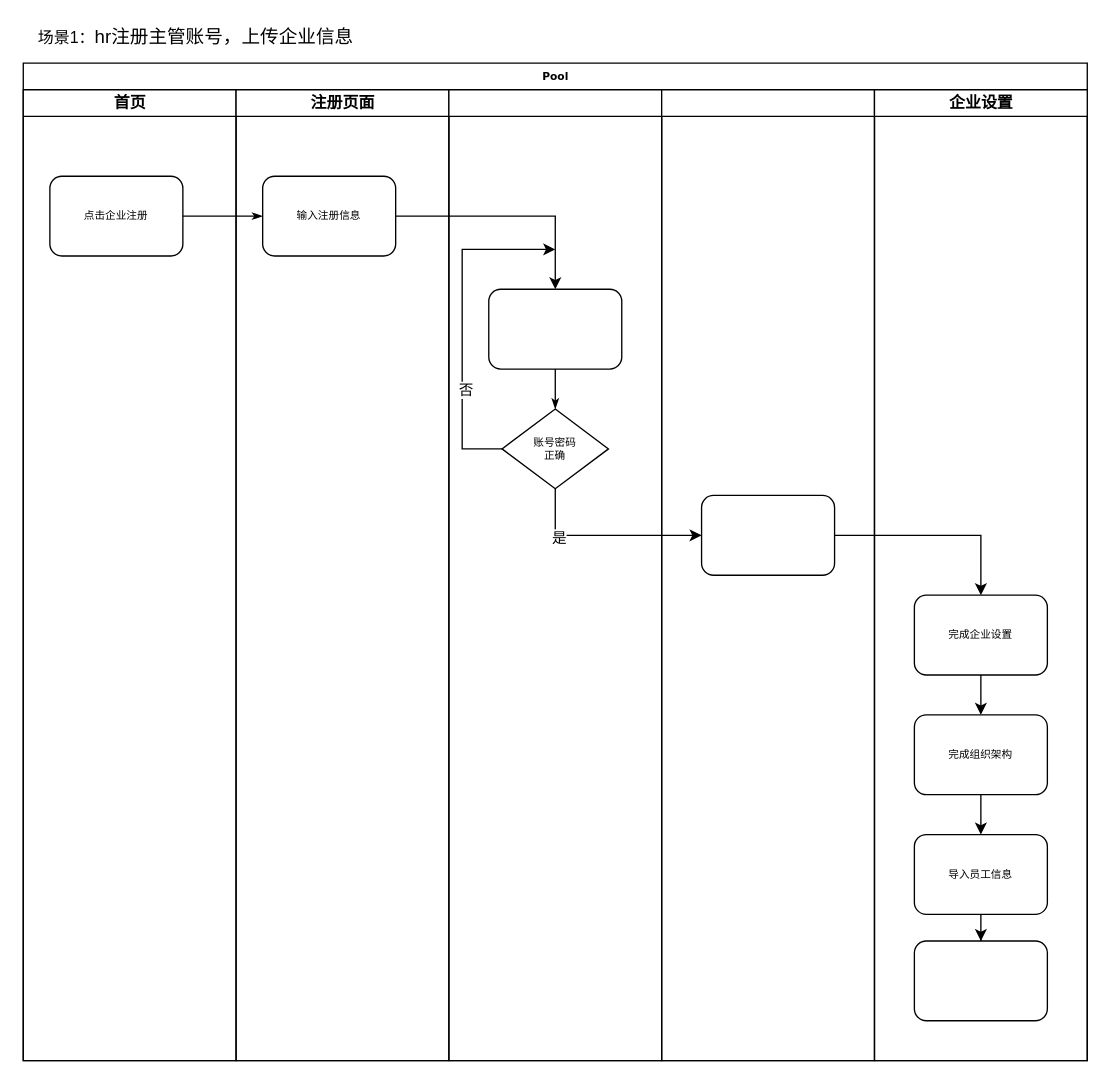
This 1111x1084 diagram has some shape labels left out. The box of each missing label's shape, as (x1, y1, x2, y2) in pixels:
员工账号权限分配: (913, 940, 1047, 1021)
工作页面: (660, 88, 874, 1061)
点击系统管理: (700, 494, 835, 575)
登录: (448, 88, 662, 1061)
输入账号密码登录: (487, 288, 622, 369)
